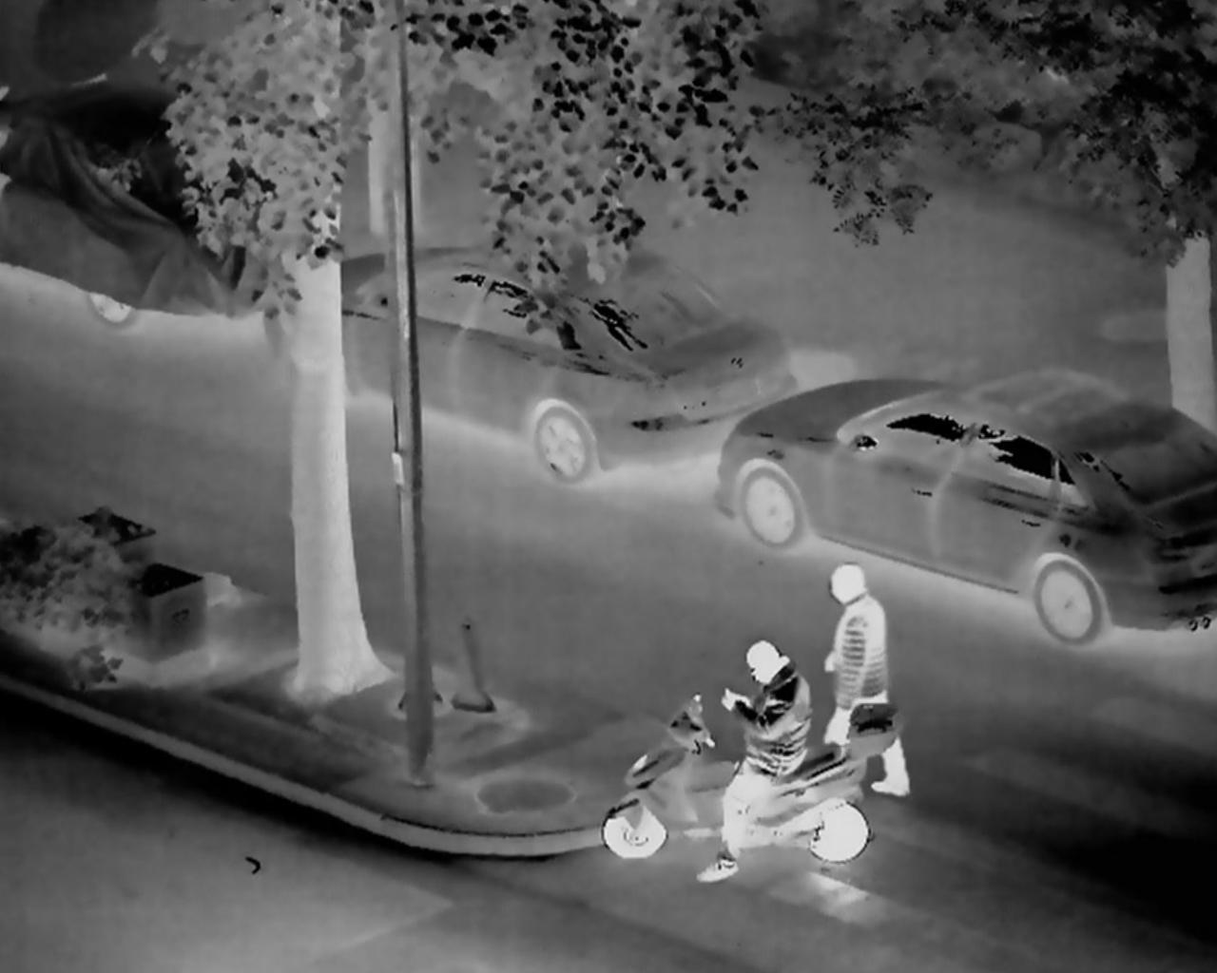person: (689, 638, 817, 880), (802, 550, 921, 804)
